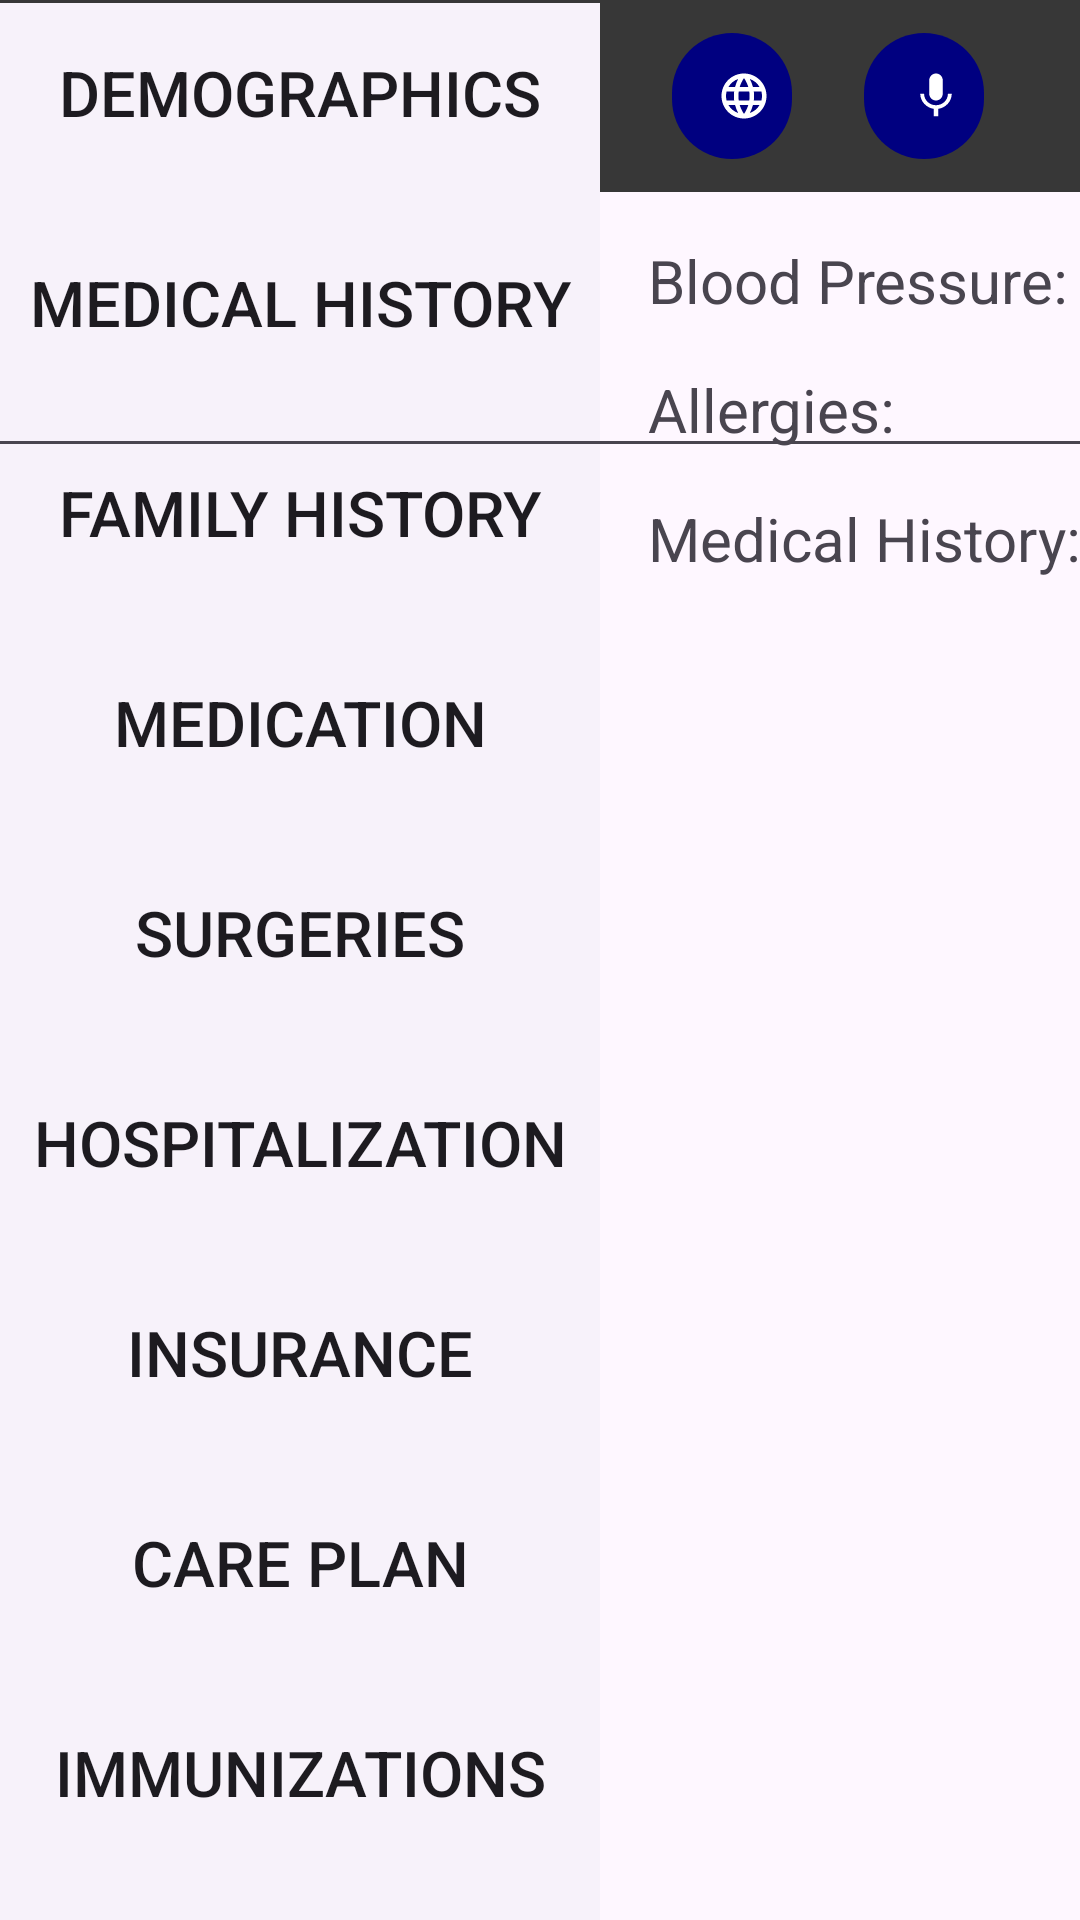

Icon click points for this 1080w x 1920h phone screenshot, format [x,y]:
language: [732,96]
mic: [924,96]
